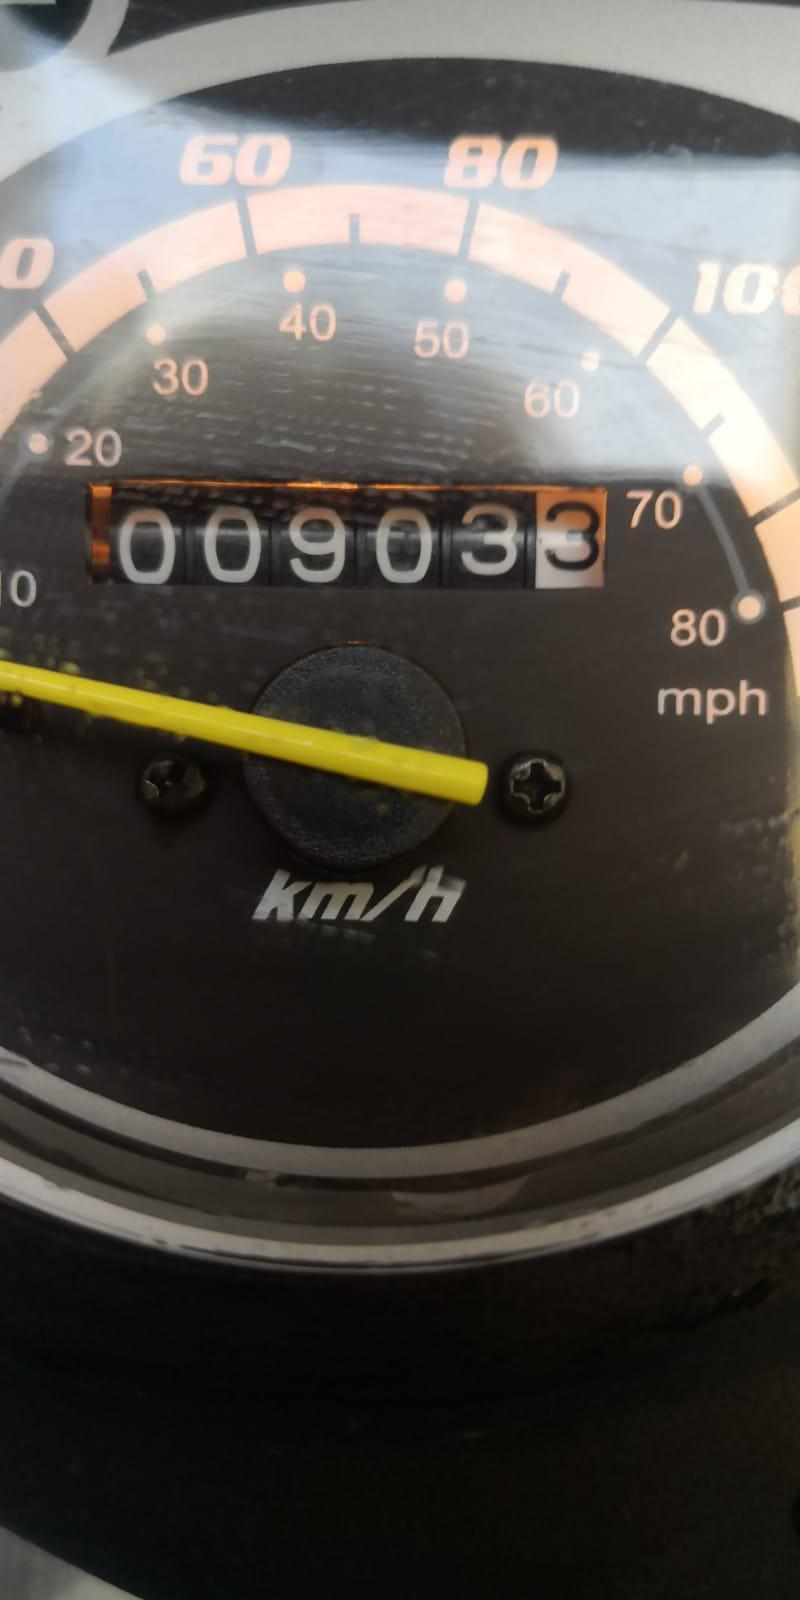0: (109, 505, 181, 591), (199, 503, 263, 589), (374, 499, 435, 589)
3: (454, 501, 519, 589), (542, 501, 601, 589)
9: (286, 497, 351, 589)
odometer: (65, 466, 631, 610)
